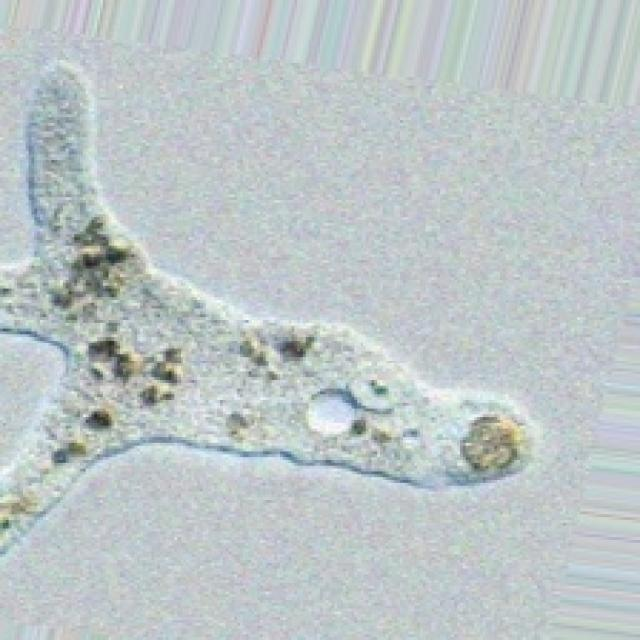Amoeba: (0, 51, 531, 585)
